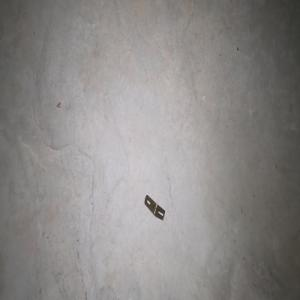MetalPart: (144, 194, 165, 221)
